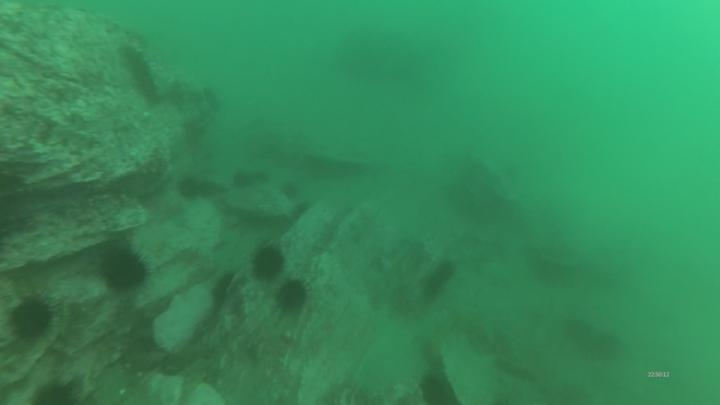echinus: (8, 294, 57, 349), (99, 250, 154, 295), (248, 245, 288, 288), (272, 278, 312, 316), (29, 381, 85, 405), (590, 329, 627, 363), (561, 317, 594, 350), (417, 375, 451, 405), (210, 273, 238, 306), (420, 273, 447, 301), (431, 258, 456, 286), (178, 176, 203, 201), (289, 200, 312, 225), (278, 182, 302, 203), (233, 171, 255, 191), (198, 180, 219, 200), (253, 170, 273, 187)
